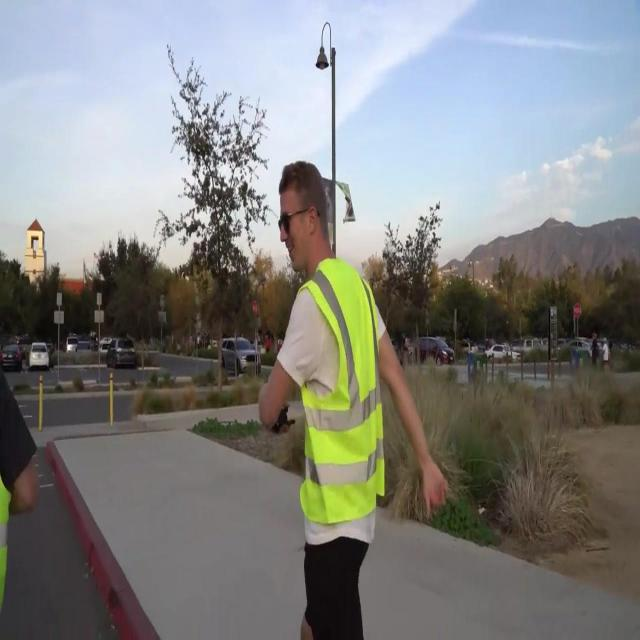Reflective-Jacket: (288, 252, 394, 540)
